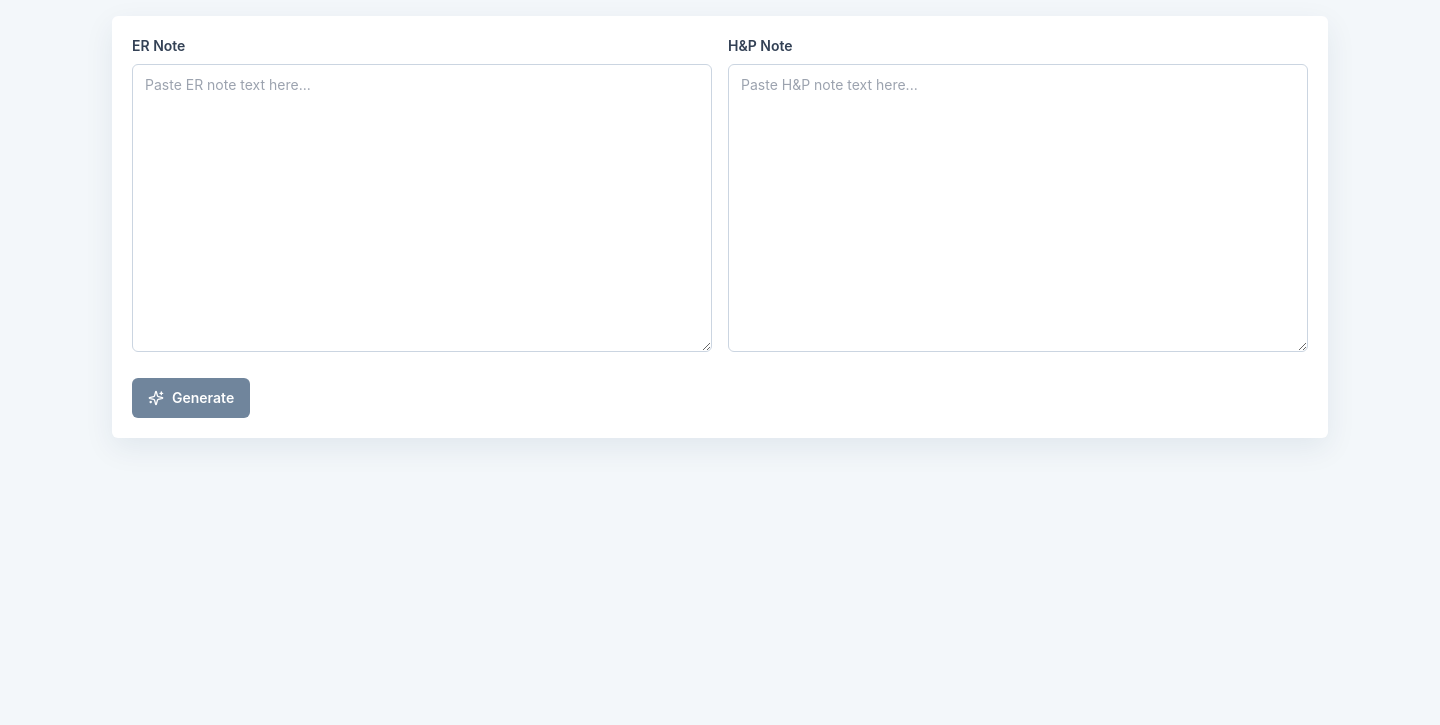
App › generates and shows editable output
In the text box labelled "ER Note": (422, 208) left=132, top=64, right=712, bottom=352, type "34F with AMS, DKA, glucose 793, insulin drip."
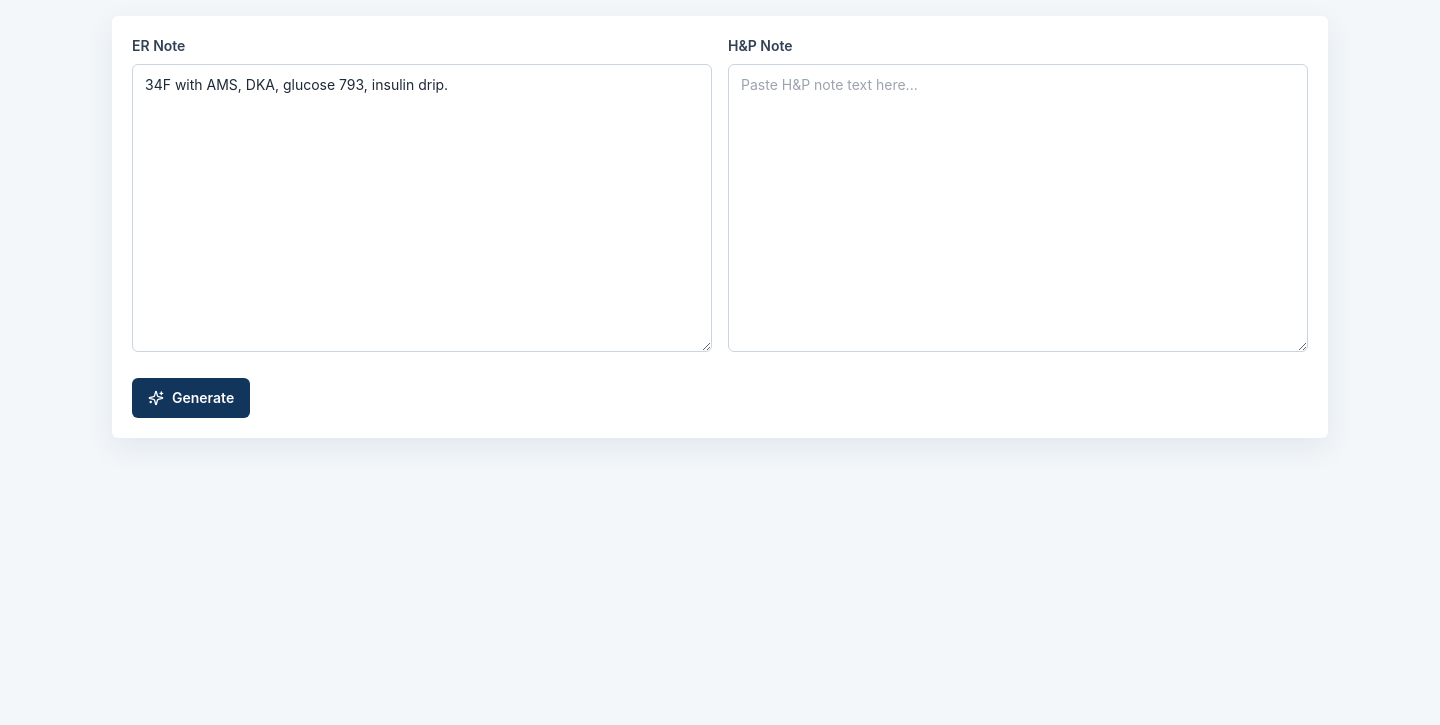
Click the 2nd button "Generate": (191, 398) left=132, top=378, right=250, bottom=418
(page scrolled)
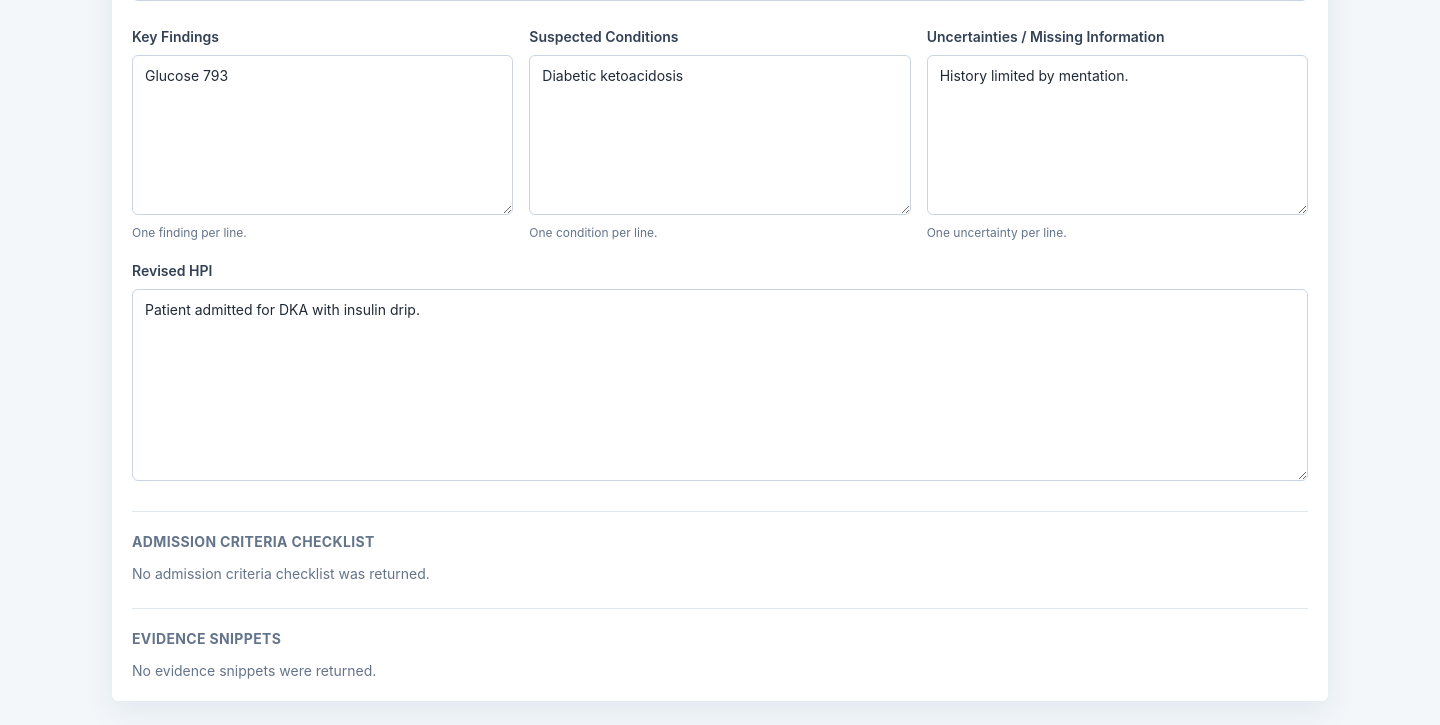
Expected: the text box showing "Patient admitted for DKA" is shown, left=132, top=289, right=1308, bottom=481
